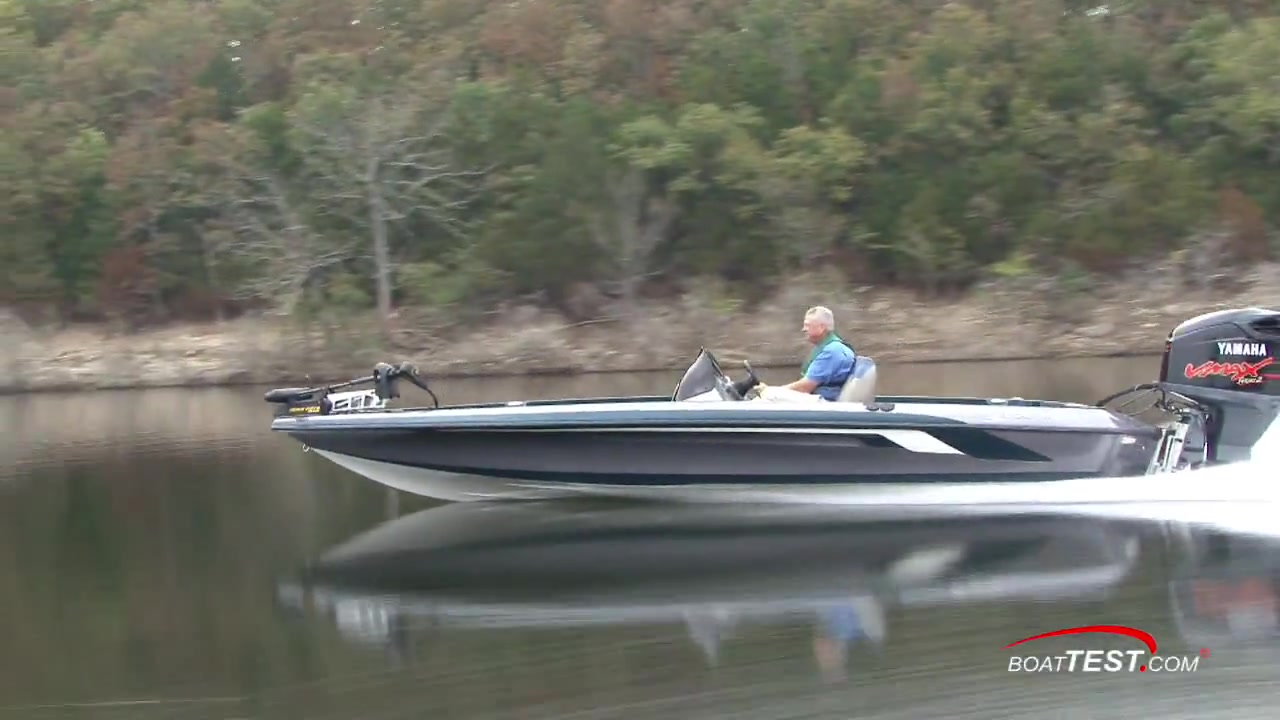boat: (262, 305, 1279, 513)
